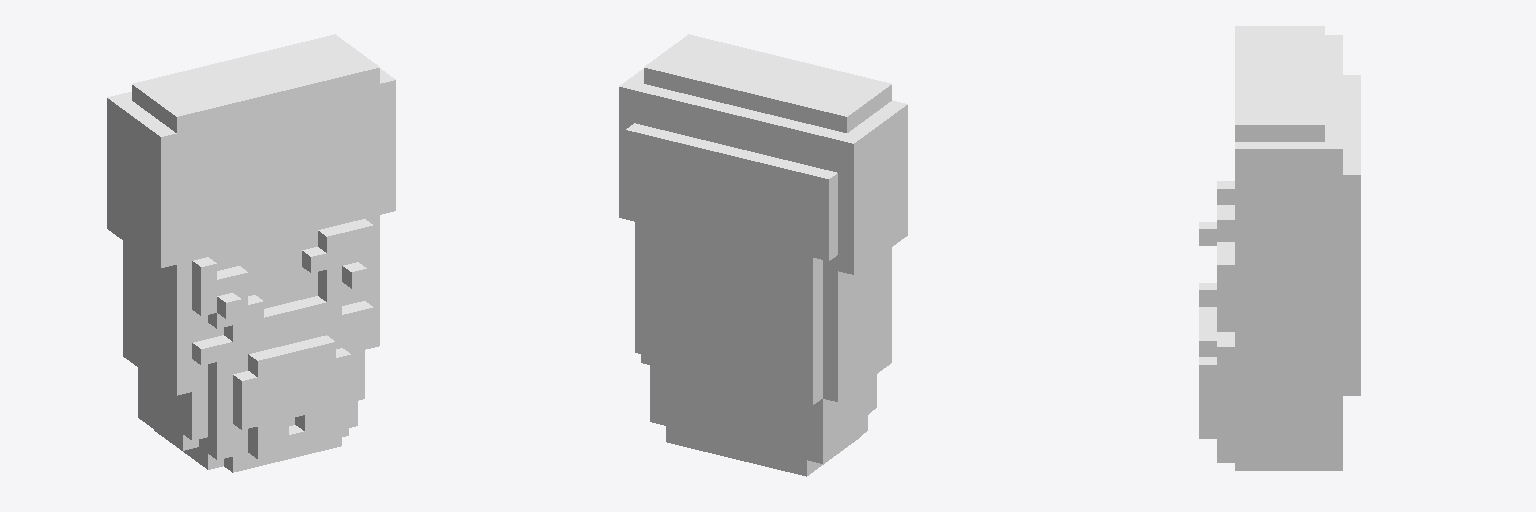
The model's file is Френки-3.obj.
The picture shows the model from 3 angles: view 1: azimuth 30°, elevation 25°; view 2: azimuth 150°, elevation 25°; view 3: azimuth 270°, elevation 25°; orthographic projection.
Parts seen in each view (by area): view 1: object 1; view 2: object 1; view 3: object 1.
Part boxes in pixels (x1,y1,x2,y2): object 1: (107,34,395,472); object 1: (619,34,907,476); object 1: (1199,26,1360,470).
Size of the model in its own units: 1.5 by 2.2 by 0.9.